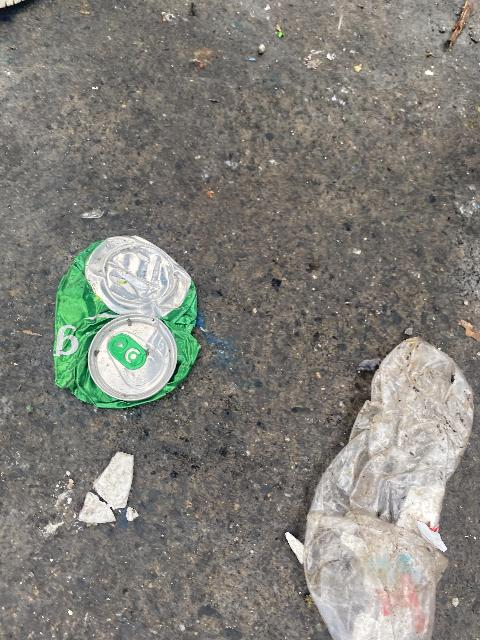Metal: (53, 234, 203, 410)
Plastik: (302, 337, 475, 640)
